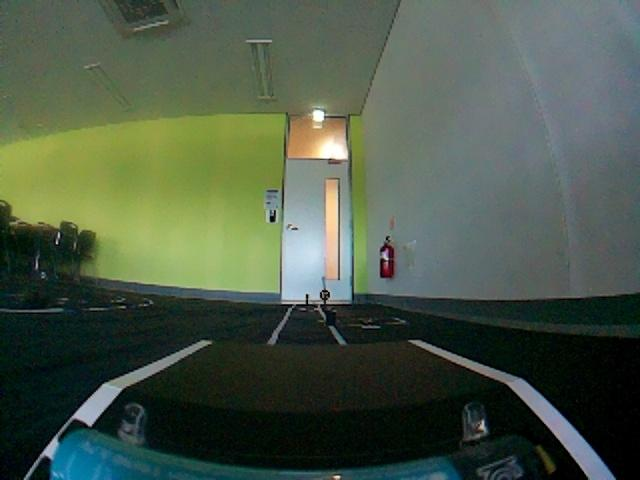go: (71, 326, 533, 377)
hill_up: (26, 379, 609, 476)
